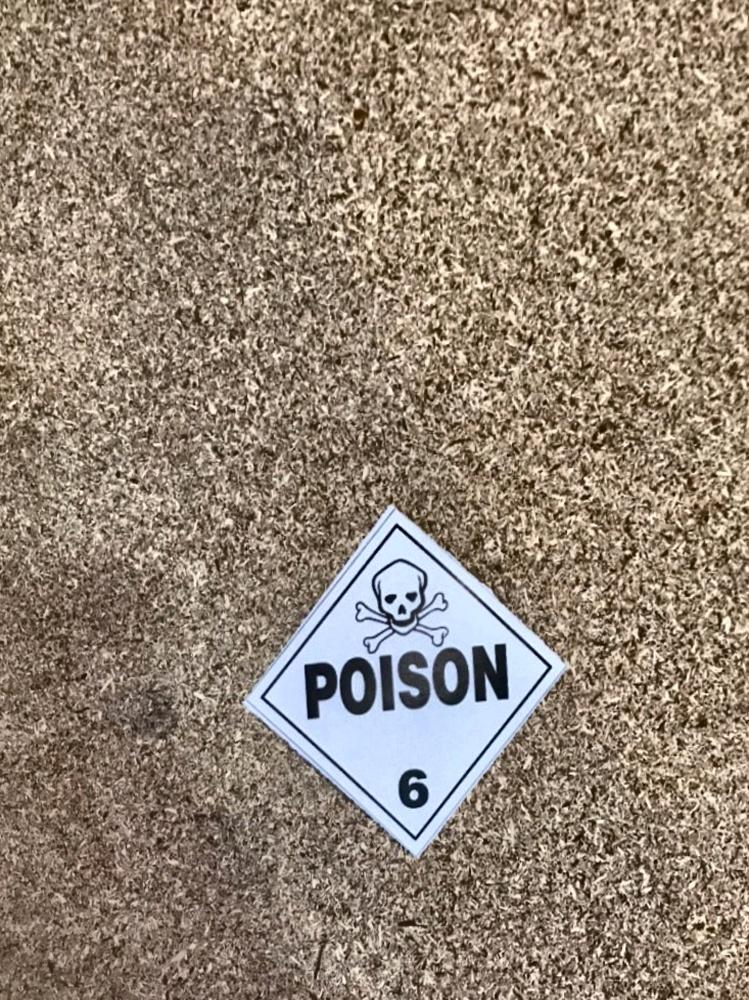poison: (249, 492, 574, 860)
